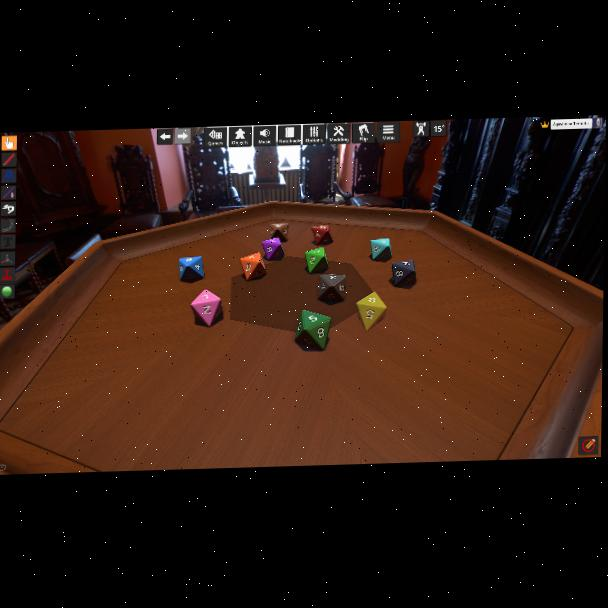d8: (295, 309, 327, 350), (355, 291, 387, 331), (190, 289, 223, 327), (318, 274, 345, 304), (239, 252, 265, 281), (179, 256, 205, 283), (392, 260, 416, 288), (261, 236, 284, 262), (305, 247, 327, 274), (370, 237, 392, 262), (311, 224, 332, 245), (270, 223, 289, 242)
